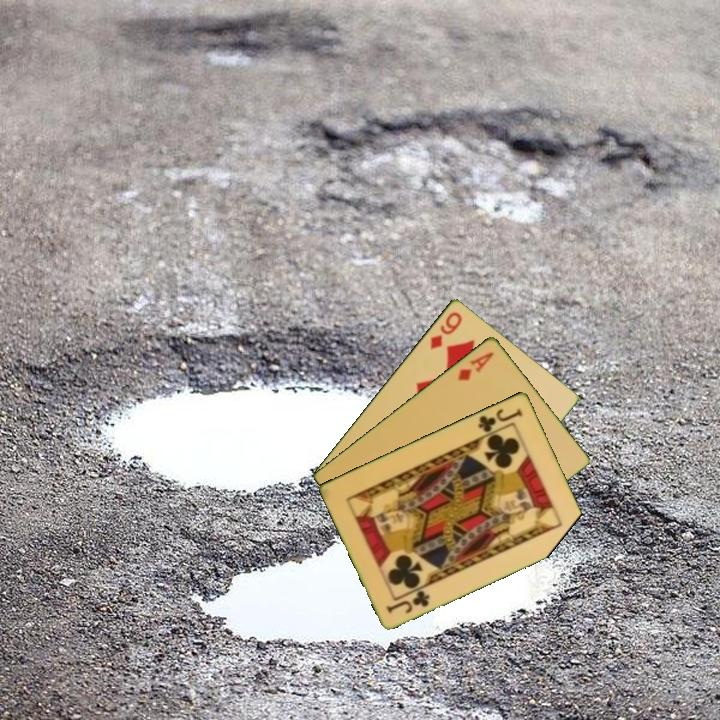9d: (426, 308, 465, 352)
Ad: (454, 348, 497, 383)
Jc: (475, 404, 526, 435), (382, 586, 433, 616)
